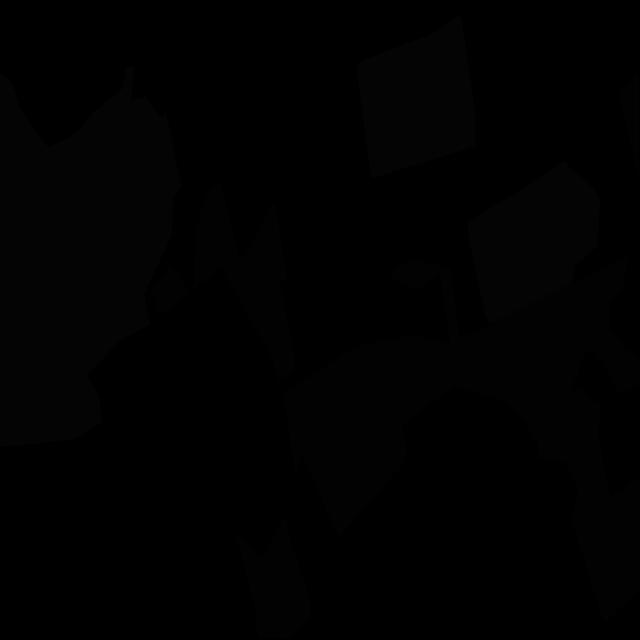cardboard: (391, 255, 640, 463), (283, 335, 455, 538), (150, 180, 296, 381), (567, 436, 640, 622), (235, 515, 311, 639), (618, 71, 639, 180)
soft_plastic: (0, 67, 181, 447), (468, 161, 600, 323), (356, 16, 476, 178)
